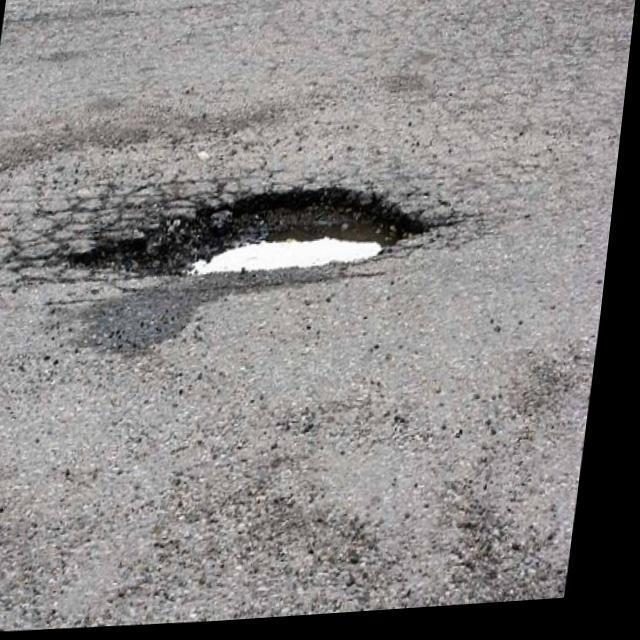Pothole: (55, 182, 439, 281)
